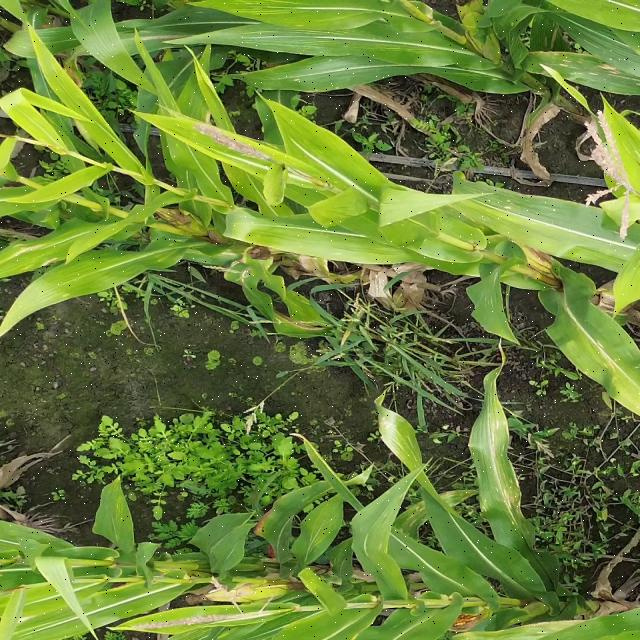gray-leaf-spot: (368, 408, 472, 548), (459, 397, 548, 533), (14, 11, 193, 59), (538, 37, 640, 116), (560, 312, 640, 404)
northern-leaf-blight: (244, 493, 318, 571)
southern-leaf-blight: (268, 22, 371, 104), (450, 174, 565, 240), (120, 229, 201, 268)
